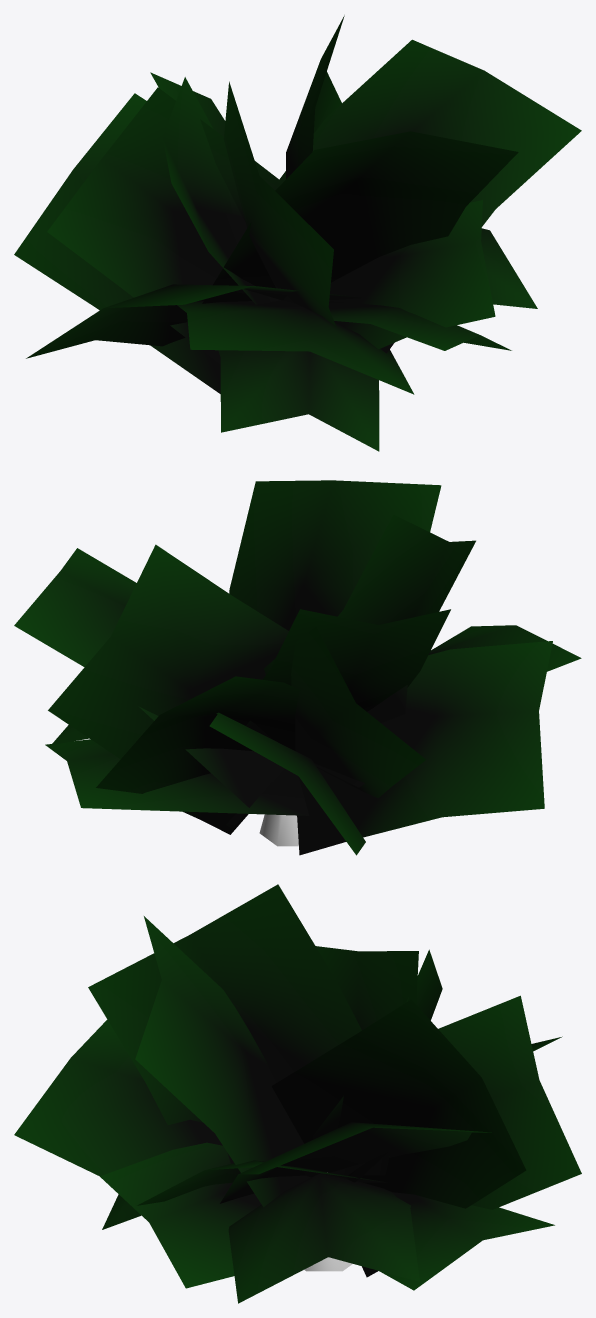
The model's file is DwarfPalmettoPalm02_afsTREE_xlprl15_xef20_xmw06_xlb08_xlod02.fbx.
The picture shows the model from 3 angles, top to bottom: view 1: azimuth 30°, elevation 25°; view 2: azimuth 150°, elevation 25°; view 3: azimuth 270°, elevation 25°; orthographic projection. The views are drawn at different scales.
Visible parts, largest first — view 1: leaf_xw02_xt01.002, leaf_xw02_xt01_xp02.002, leaf_xw02_xt01_xp01.002, leaf_xw01_xt01.005, leaf_xw01_xt00, leaf_xw01_xt01_xp07.002, leaf_xw02_xt01_xp06.002, leaf_xw00_xt01_xp08.002, leaf_xw01_xt01.004, leaf_xw01_xt01.003, leaf_xw00_xt01_xp09.002, leaf_xw01_xt01_xp10.002 (+2 smaller); view 2: leaf_xw01_xt01.003, leaf_xw01_xt01_xp10.002, leaf_xw02_xt01.002, leaf_xw01_xt00.001, leaf_xw02_xt01_xp01.002, leaf_xw02_xt01_xp02.002, leaf_xw01_xt01.004, leaf_xw02_xt01_xp06.002, leaf_xw01_xt00_xp08.002, leaf_xw00_xt01_xp08.002, leaf_xw01_xt01_xp07.002, trunk_xw00_xt00_xlp00.001; view 3: leaf_xw01_xt01_xp10.002, leaf_xw02_xt01_xp06.002, leaf_xw02_xt01.002, leaf_xw01_xt01_xp04, leaf_xw01_xt01_xp07.002, leaf_xw01_xt00.001, leaf_xw00_xt01_xp09.002, leaf_xw02_xt01_xp01.002, leaf_xw01_xt00_xp08.002, leaf_xw01_xt01.004, leaf_xw01_xt01.005, leaf_xw02_xt01_xp02.002 (+1 smaller).
Boxes of the visible parts, bbox=[...] form: leaf_xw02_xt01.002: bbox=[202, 131, 518, 303]; leaf_xw02_xt01_xp02.002: bbox=[47, 87, 282, 364]; leaf_xw02_xt01_xp01.002: bbox=[279, 39, 581, 353]; leaf_xw01_xt01.005: bbox=[329, 199, 495, 349]; leaf_xw01_xt00: bbox=[218, 350, 379, 451]; leaf_xw01_xt01_xp07.002: bbox=[177, 300, 414, 394]; leaf_xw02_xt01_xp06.002: bbox=[223, 81, 336, 327]; leaf_xw00_xt01_xp08.002: bbox=[14, 93, 220, 393]; leaf_xw01_xt01.004: bbox=[162, 77, 280, 304]; leaf_xw01_xt01.003: bbox=[26, 284, 366, 358]; leaf_xw00_xt01_xp09.002: bbox=[328, 300, 511, 350]; leaf_xw01_xt01_xp10.002: bbox=[286, 15, 344, 178]; leaf_xw01_xt01.003: bbox=[297, 641, 552, 855]; leaf_xw01_xt01_xp10.002: bbox=[48, 544, 288, 828]; leaf_xw02_xt01.002: bbox=[229, 480, 441, 722]; leaf_xw01_xt00.001: bbox=[96, 676, 300, 834]; leaf_xw02_xt01_xp01.002: bbox=[14, 548, 283, 807]; leaf_xw02_xt01_xp02.002: bbox=[264, 626, 425, 798]; leaf_xw01_xt01.004: bbox=[262, 609, 450, 711]; leaf_xw02_xt01_xp06.002: bbox=[246, 514, 475, 739]; leaf_xw01_xt00_xp08.002: bbox=[45, 739, 309, 815]; leaf_xw00_xt01_xp08.002: bbox=[209, 712, 365, 855]; leaf_xw01_xt01_xp07.002: bbox=[314, 625, 581, 787]; trunk_xw00_xt00_xlp00.001: bbox=[259, 814, 298, 846]; leaf_xw01_xt01_xp10.002: bbox=[271, 999, 526, 1208]; leaf_xw02_xt01_xp06.002: bbox=[88, 884, 361, 1125]; leaf_xw02_xt01.002: bbox=[135, 916, 310, 1207]; leaf_xw01_xt01_xp04: bbox=[228, 1173, 419, 1303]; leaf_xw01_xt01_xp07.002: bbox=[14, 1019, 222, 1176]; leaf_xw01_xt00.001: bbox=[362, 995, 581, 1277]; leaf_xw00_xt01_xp09.002: bbox=[100, 1142, 261, 1288]; leaf_xw02_xt01_xp01.002: bbox=[220, 1122, 491, 1203]; leaf_xw01_xt00_xp08.002: bbox=[379, 1192, 554, 1290]; leaf_xw01_xt01.004: bbox=[315, 946, 418, 1175]; leaf_xw01_xt01.005: bbox=[137, 1160, 387, 1205]; leaf_xw02_xt01_xp02.002: bbox=[312, 949, 442, 1139].
Size of the model in its own units: 2.12 by 2.01 by 1.31.
